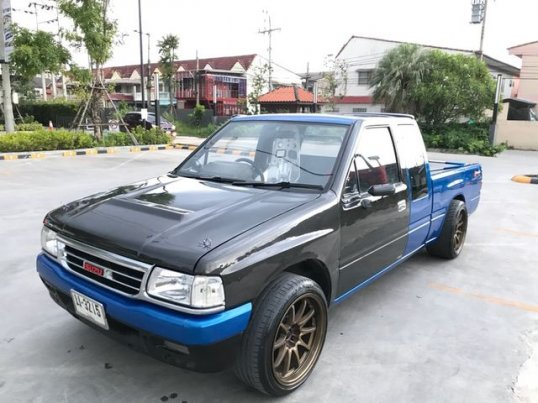pickup: (34, 112, 484, 395)
